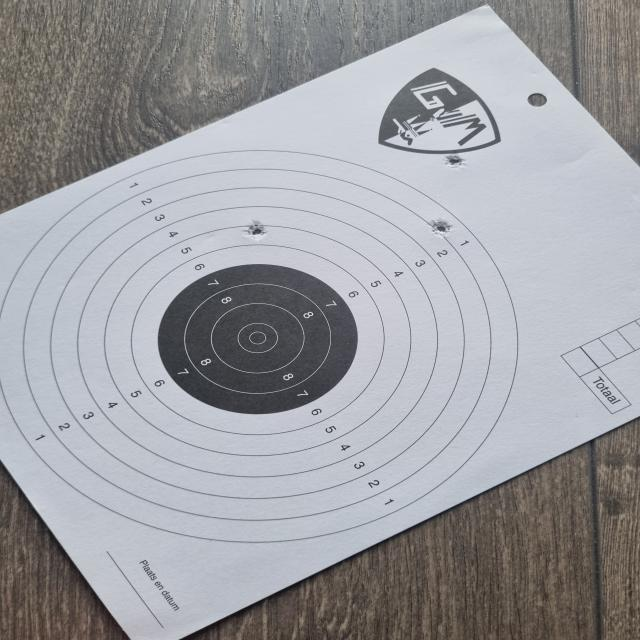0: (444, 154, 464, 168)
2: (430, 220, 452, 237)
5: (242, 220, 266, 239)
Target: (0, 149, 519, 543)
black_contour: (158, 264, 358, 414)
